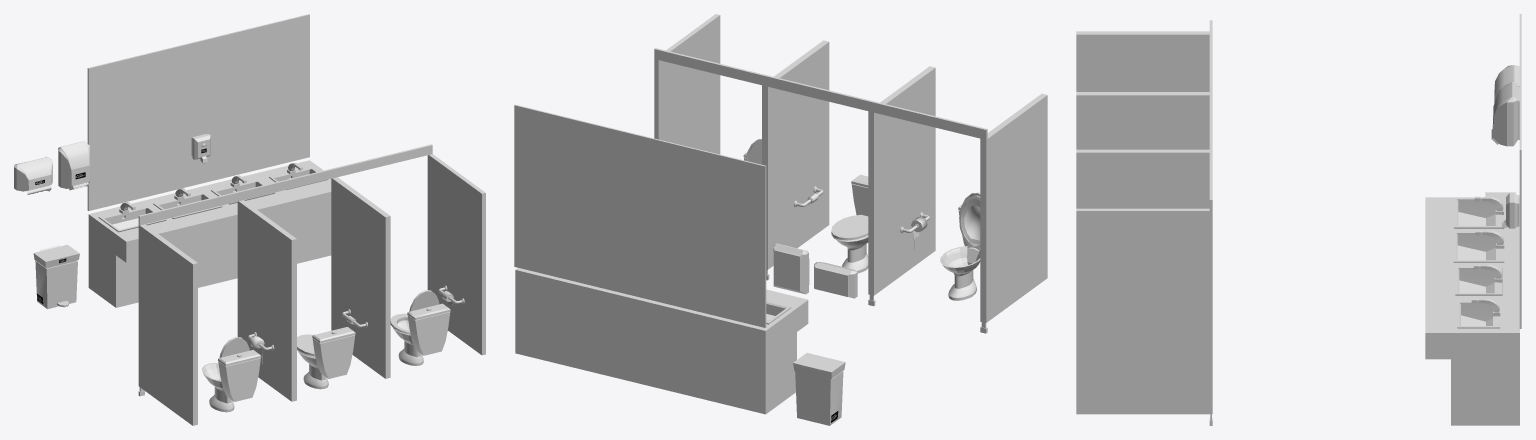
File: Bathroom.fbx
The picture shows the model from 3 angles, left to right: view 1: azimuth 30°, elevation 25°; view 2: azimuth 150°, elevation 25°; view 3: azimuth 270°, elevation 25°; orthographic projection. The views are drawn at different scales.
Visible parts, largest first — view 1: Stalls, Mirror, Sinks, Toilets, Garbage, HandDryer, TowelDispenser, ToiletPaper, Soap; view 2: Stalls, Mirror, Sinks, Toilets, Garbage, HandDryer, TowelDispenser, ToiletPaper; view 3: Stalls, Sinks, HandDryer, Mirror, Soap, TowelDispenser.
Part boxes in pixels (<box>): Stalls: <box>138,144,485,425</box>; Mirror: <box>87,14,309,210</box>; Sinks: <box>88,160,331,307</box>; Toilets: <box>202,290,450,412</box>; Garbage: <box>33,244,79,309</box>; HandDryer: <box>58,141,89,190</box>; TowelDispenser: <box>14,156,52,194</box>; ToiletPaper: <box>248,285,464,364</box>; Soap: <box>191,134,210,163</box>; Stalls: <box>654,14,1047,333</box>; Mirror: <box>514,104,766,327</box>; Sinks: <box>515,268,808,414</box>; Toilets: <box>743,139,980,300</box>; Garbage: <box>793,353,845,425</box>; HandDryer: <box>773,243,809,294</box>; TowelDispenser: <box>814,262,857,298</box>; ToiletPaper: <box>794,186,929,249</box>; Stalls: <box>1076,20,1212,425</box>; Sinks: <box>1425,196,1519,425</box>; HandDryer: <box>1491,82,1519,146</box>; Mirror: <box>1519,14,1521,328</box>; Soap: <box>1502,192,1519,228</box>; TowelDispenser: <box>1494,65,1519,102</box>.
Size of the model in its own units: 526 by 371 by 542.
